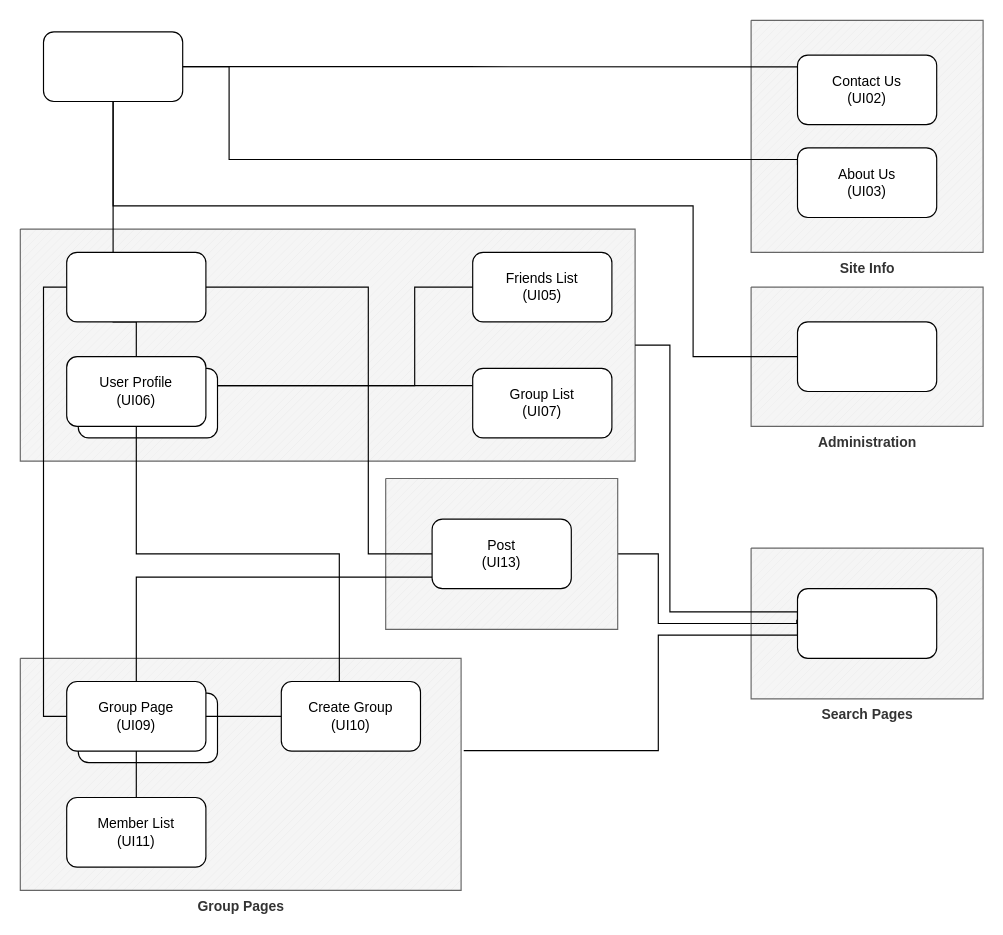
Some shapes in this 1003 by 935 pixel diagram are drawn without their labels. The shapes that lost their labels are listed below. From the top down, each one's box as (x1, y1, x2, y2) in pixels, then its label:
(42, 31, 183, 102): Welcome Page (UI01)
(66, 251, 206, 322): Timeline (UI04)
(19, 228, 635, 461): User Pages
(796, 321, 937, 392): Administration (UI08)
(385, 477, 618, 629): Post Pages
(796, 588, 937, 658): Search Results (UI12)
